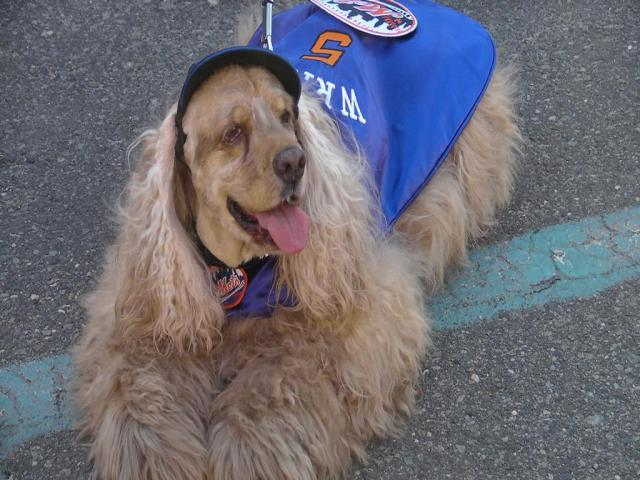Dog: (66, 0, 527, 479)
